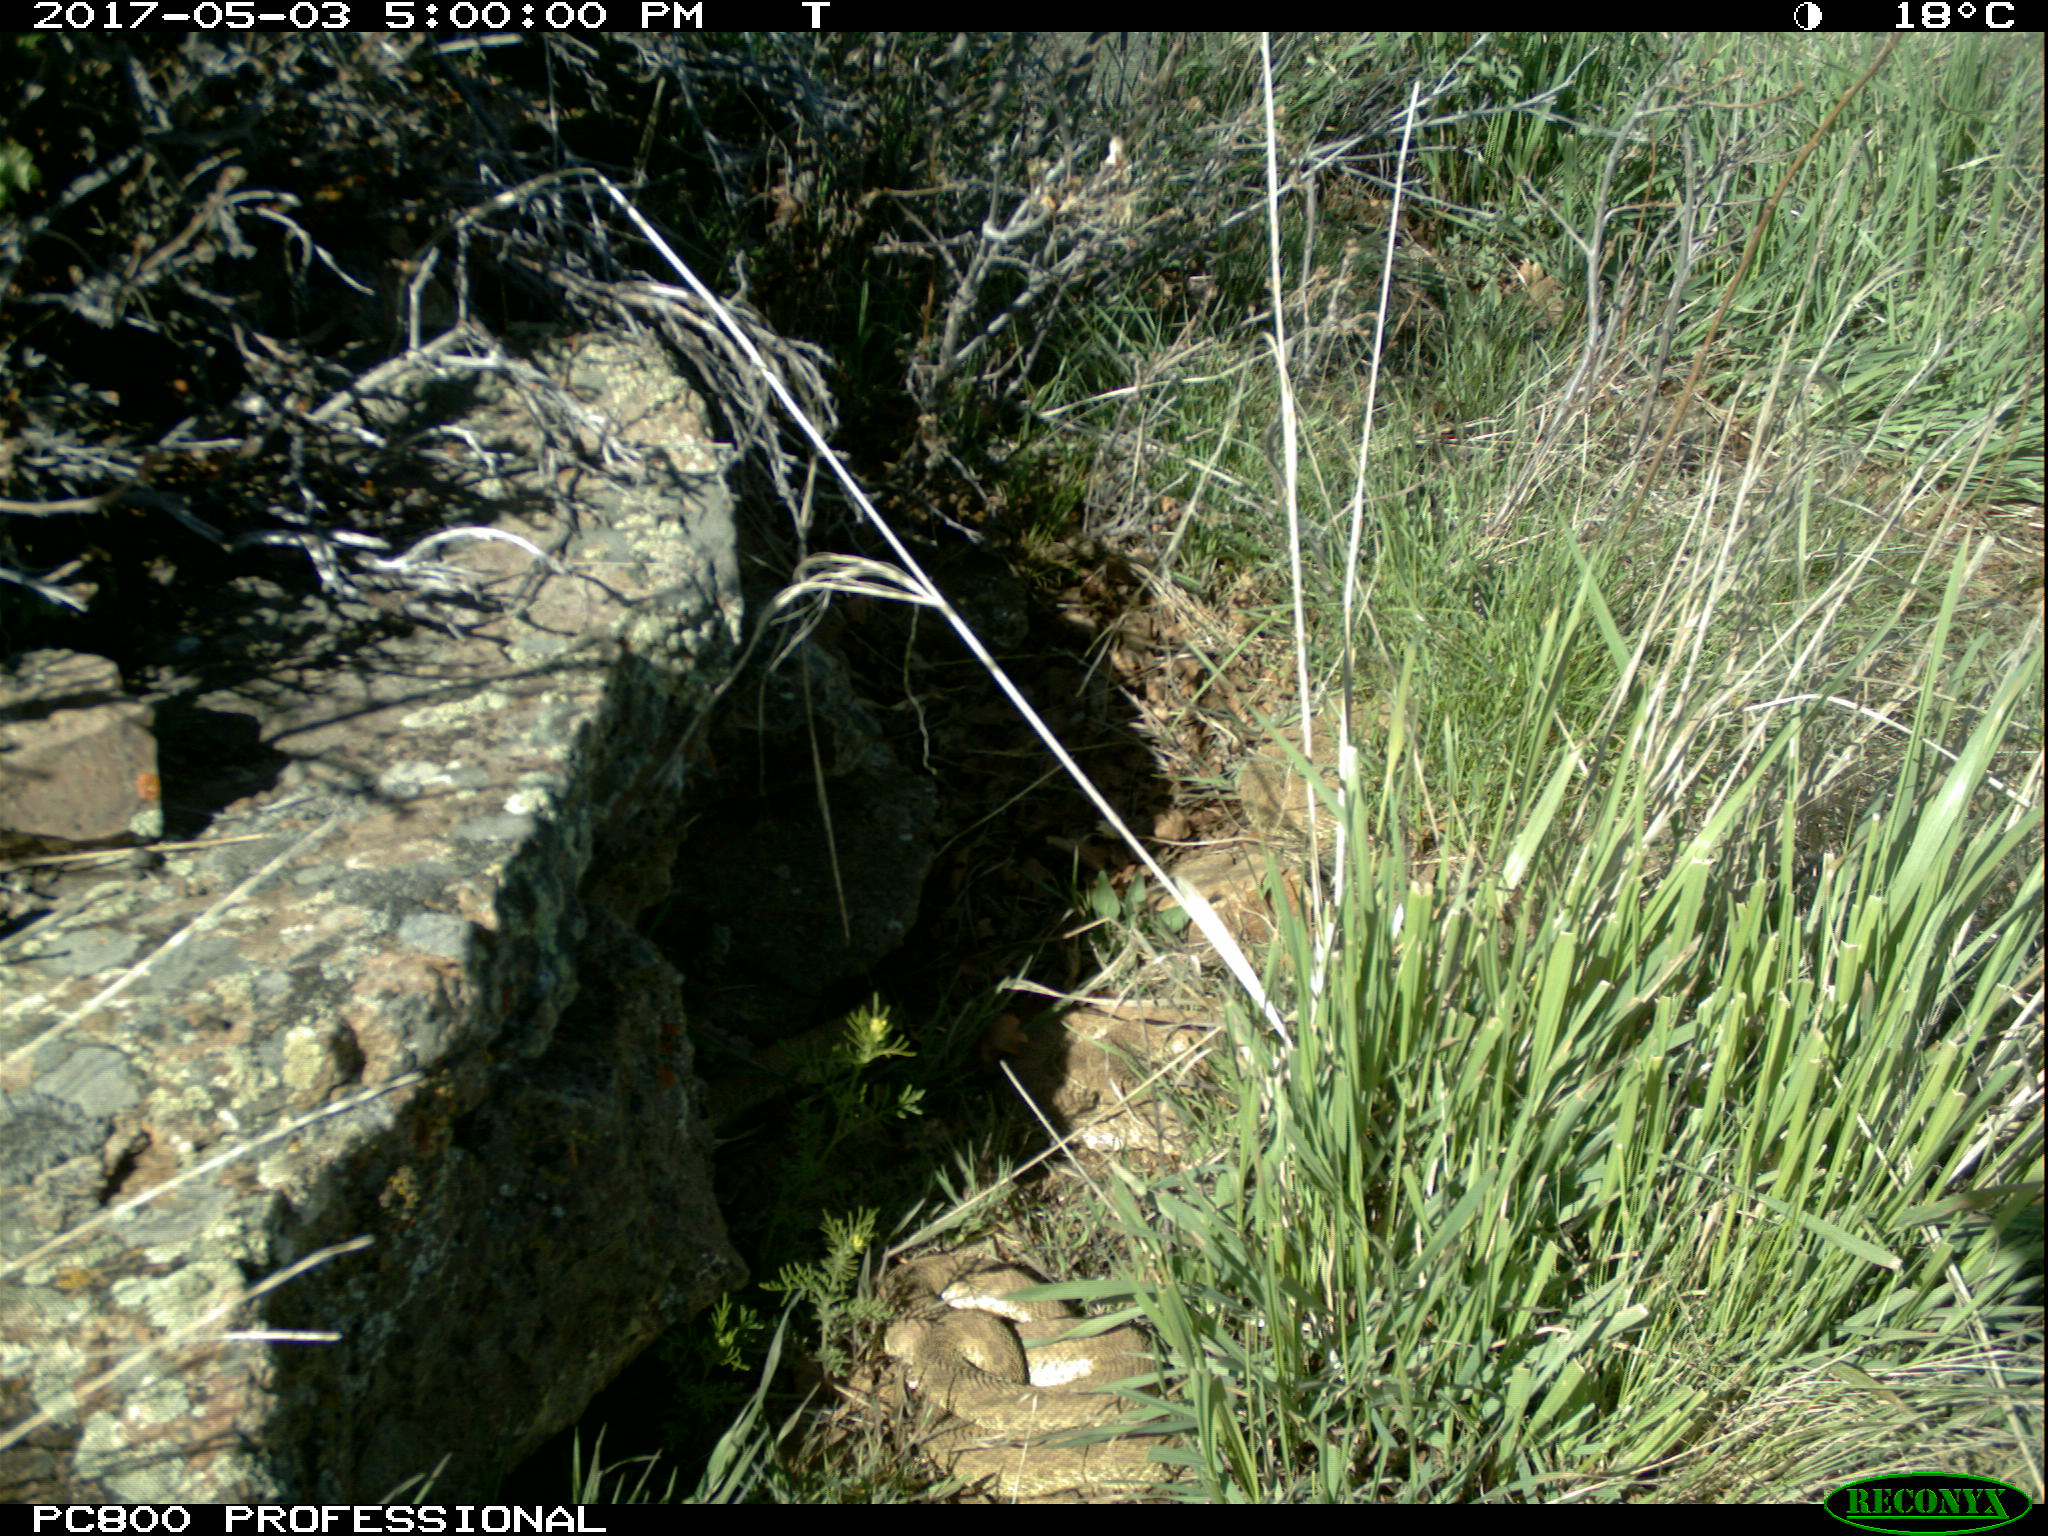snake: (890, 1258, 1219, 1501), (993, 1007, 1226, 1155), (1226, 749, 1348, 868)
